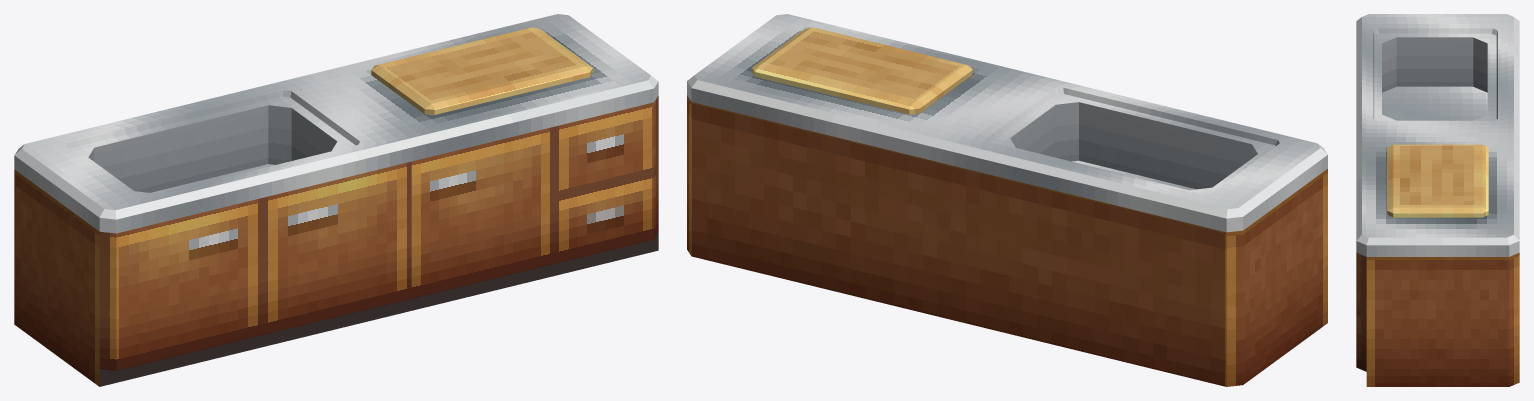
The model's file is Kitchen.fbx.
3 views of the same model, side by side, from view 1: azimuth 30°, elevation 25°; view 2: azimuth 150°, elevation 25°; view 3: azimuth 270°, elevation 25° (orthographic). The views are drawn at different scales.
Visible parts, largest first — view 1: Kitchen; view 2: Kitchen; view 3: Kitchen.
Boxes of the visible parts, left/top/right/bottom form: Kitchen: left=14, top=14, right=658, bottom=386; Kitchen: left=687, top=14, right=1327, bottom=386; Kitchen: left=1356, top=14, right=1519, bottom=386.
Size of the model in its own units: 2 by 0.6376 by 0.6041.
